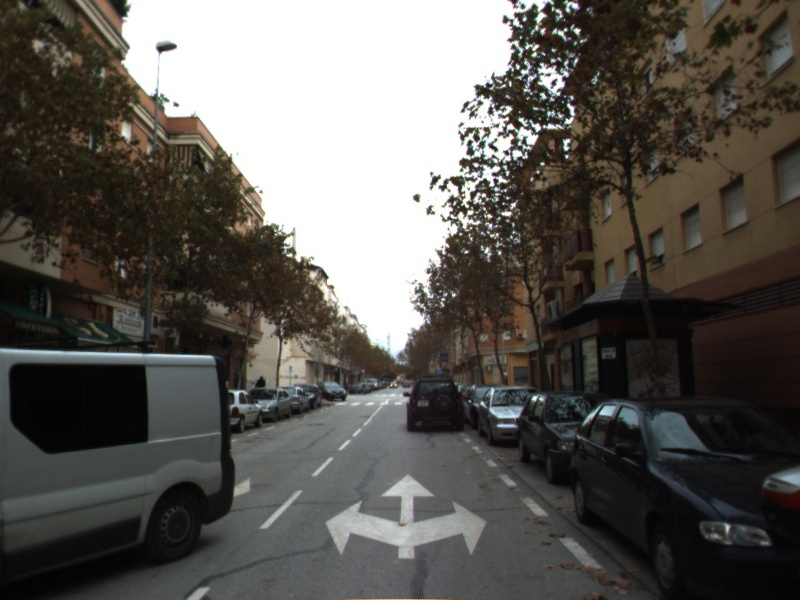STRAIGHT_LEFT_RIGHT: (321, 470, 491, 561)
